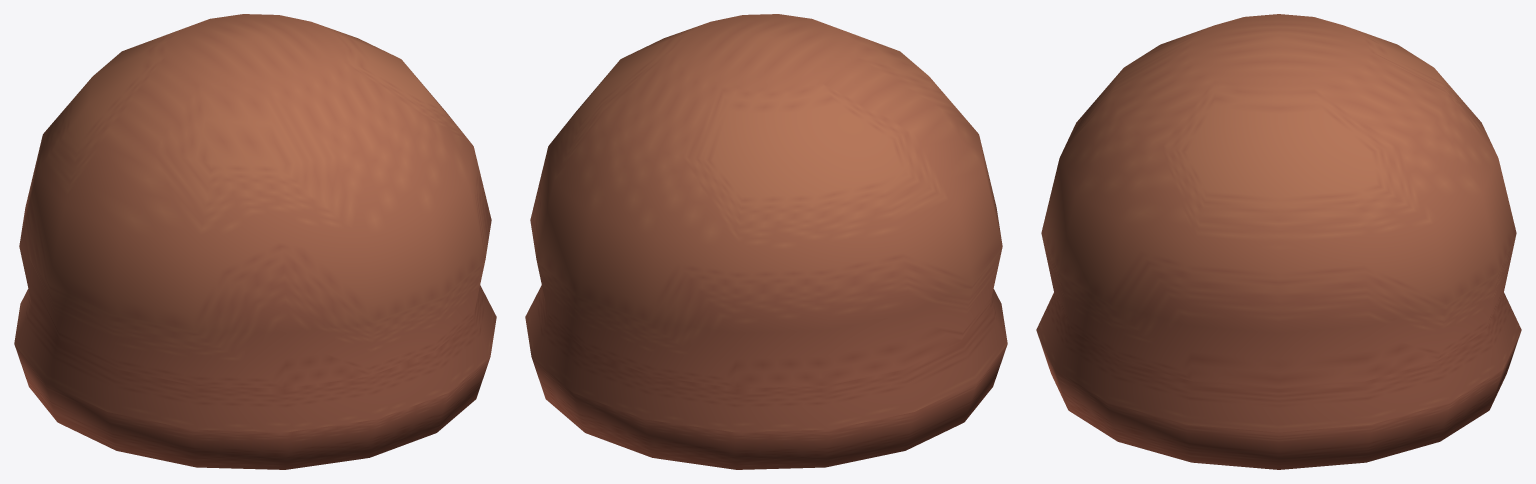
The model's file is icecream_bowl_icecream_chocolate.gltf.
The picture shows the model from 3 angles, left to right: view 1: azimuth 30°, elevation 25°; view 2: azimuth 150°, elevation 25°; view 3: azimuth 270°, elevation 25°; orthographic projection.
Visible parts, largest first — view 1: icecream_bowl_icecream_chocolate; view 2: icecream_bowl_icecream_chocolate; view 3: icecream_bowl_icecream_chocolate.
Part boxes in pixels (<box>): icecream_bowl_icecream_chocolate: <box>14,14,496,469</box>; icecream_bowl_icecream_chocolate: <box>525,14,1007,469</box>; icecream_bowl_icecream_chocolate: <box>1036,14,1521,469</box>.
Bounding box in the file's own units: 0.45 × 0.36 × 0.45.
1 material, 1 textured.
